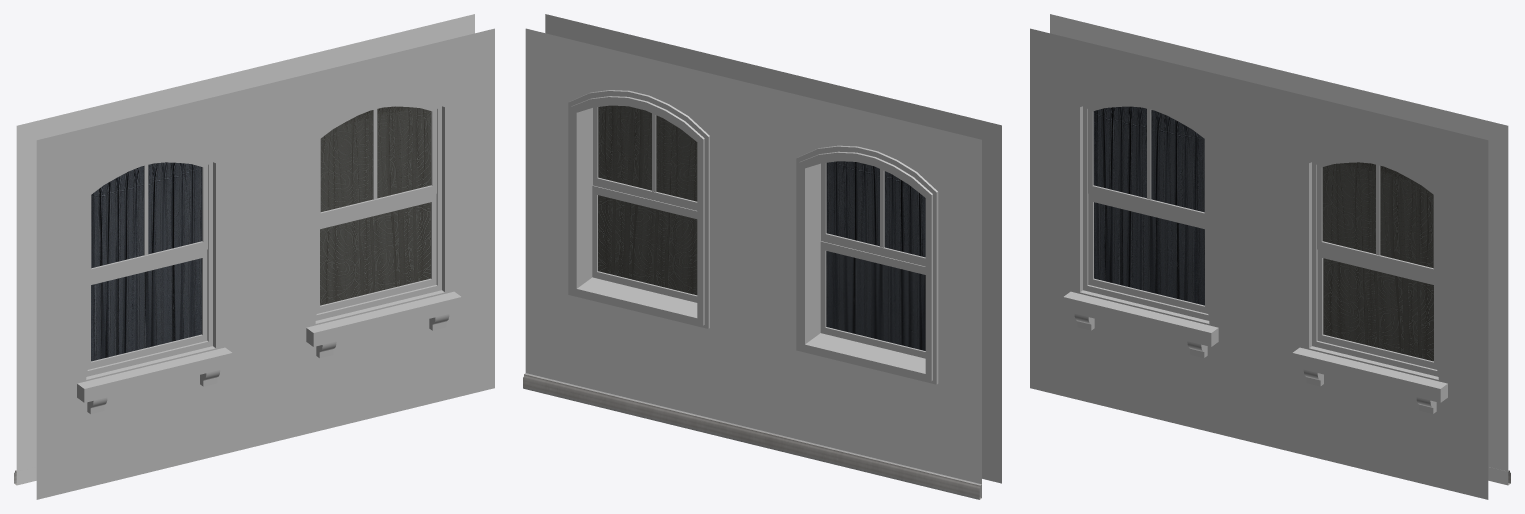
File: House_01_Windows_02.fbx
3 views of the same model, side by side, from view 1: azimuth 30°, elevation 25°; view 2: azimuth 150°, elevation 25°; view 3: azimuth 330°, elevation 25° (orthographic).
Parts seen in each view (by area): view 1: House_01_Windows_02_LOD0; view 2: House_01_Windows_02_LOD0; view 3: House_01_Windows_02_LOD0.
Part boxes in pixels (box(x1,y1,x2,y2)): House_01_Windows_02_LOD0: box(14, 14, 494, 499); House_01_Windows_02_LOD0: box(523, 14, 1001, 499); House_01_Windows_02_LOD0: box(1030, 14, 1510, 499).
Size of what is drawn, in the model's own units: 400 by 300 by 45.29.
